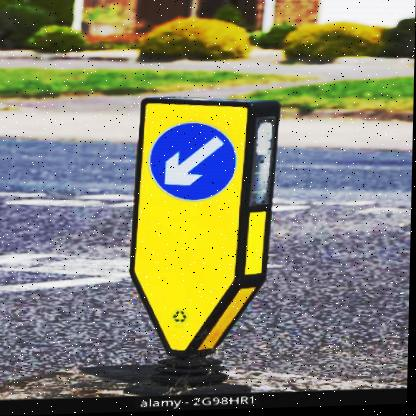Keep left: (145, 105, 244, 205)
